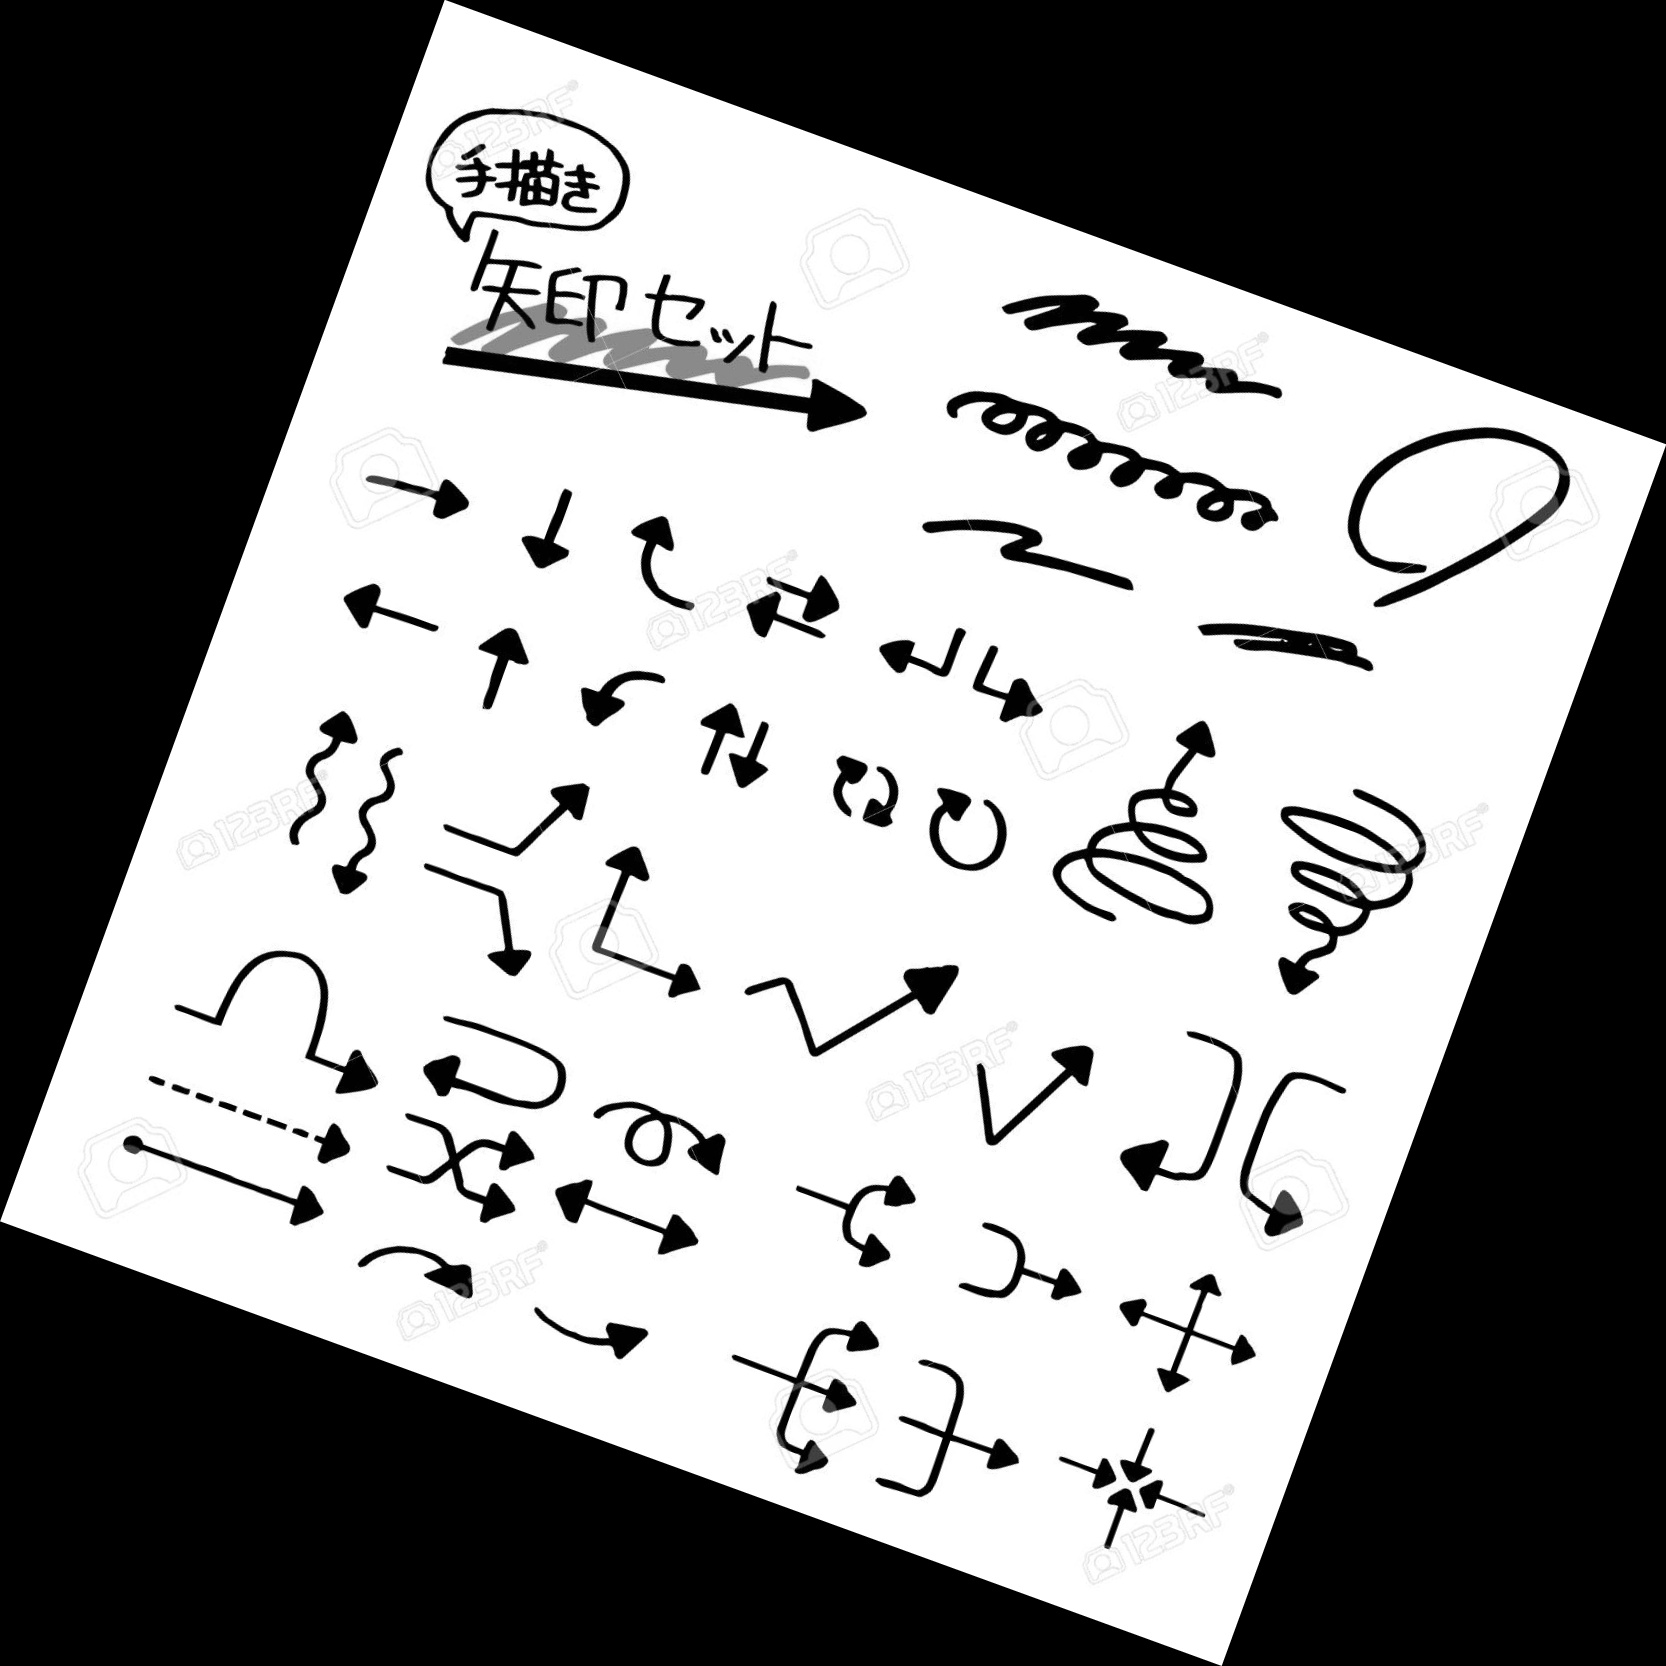arrow: (838, 958, 963, 1040), (1098, 1117, 1202, 1205), (381, 1243, 487, 1314), (587, 841, 659, 937), (511, 773, 593, 851), (619, 941, 712, 1010), (1018, 1040, 1100, 1117), (416, 1056, 519, 1117), (447, 1166, 539, 1233), (613, 1204, 712, 1265), (249, 1175, 343, 1236), (301, 1044, 397, 1103), (557, 1314, 664, 1367), (575, 662, 654, 734), (1153, 717, 1230, 790), (1272, 932, 1349, 1005), (471, 624, 540, 705), (1230, 1184, 1318, 1246), (401, 462, 481, 531), (328, 819, 394, 902), (462, 1120, 552, 1179), (331, 577, 413, 641), (474, 906, 542, 984), (918, 783, 979, 867), (680, 1108, 745, 1185), (966, 1420, 1042, 1484), (275, 1112, 359, 1170), (769, 1430, 854, 1484), (783, 558, 845, 632), (880, 622, 944, 693), (812, 1314, 896, 1367), (795, 1368, 880, 1420), (519, 508, 580, 580), (693, 693, 751, 767), (987, 671, 1057, 731), (726, 601, 804, 654), (1199, 1320, 1278, 1372), (857, 1172, 935, 1222), (1105, 1291, 1181, 1341), (629, 513, 677, 590), (1057, 1442, 1124, 1494), (835, 1239, 909, 1285), (311, 709, 368, 767), (1018, 1262, 1085, 1306), (1149, 1352, 1204, 1404), (729, 735, 778, 793), (1138, 1484, 1204, 1527), (1173, 1266, 1228, 1314)
